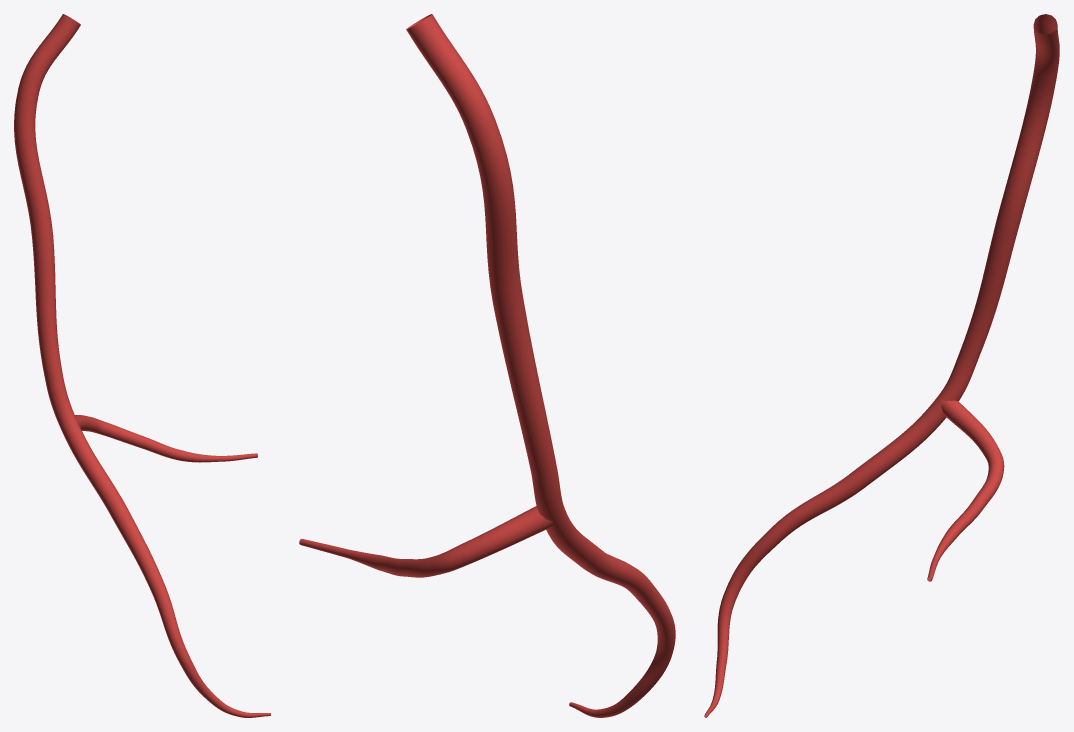
3 views of the same model, side by side, from view 1: azimuth 30°, elevation 25°; view 2: azimuth 150°, elevation 25°; view 3: azimuth 270°, elevation 25° (orthographic). The views are drawn at different scales.
Parts seen in each view (by area): view 1: 左侧大脑前动脉眶额支; view 2: 左侧大脑前动脉眶额支; view 3: 左侧大脑前动脉眶额支.
Part boxes in pixels (x1,y1,x2,y2): 左侧大脑前动脉眶额支: [14, 14, 270, 717]; 左侧大脑前动脉眶额支: [299, 14, 675, 717]; 左侧大脑前动脉眶额支: [704, 14, 1059, 717].
Size of the model in its own units: 0.0216 by 0.0643 by 0.0307.
